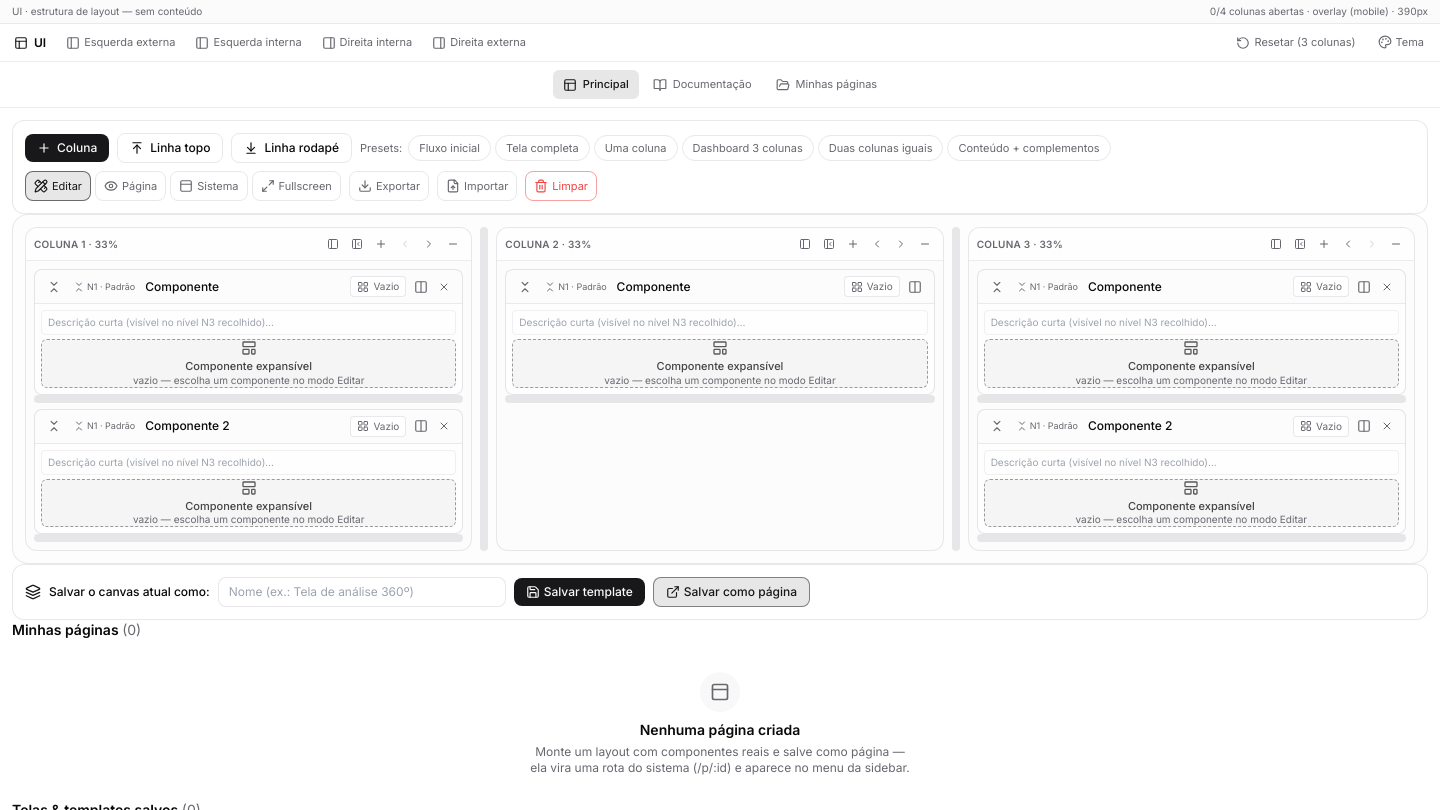
Scenario: UiShell — modo overlay (mobile) › laterais saem do fluxo e abrem como gaveta com Esc/fechar
The image size is (1440, 810).
abre a gaveta da esquerda externa pelo botão da toolbar
Click the button with aria-label "Abrir coluna Esquerda externa" at (121, 43), box [58,30,184,55]
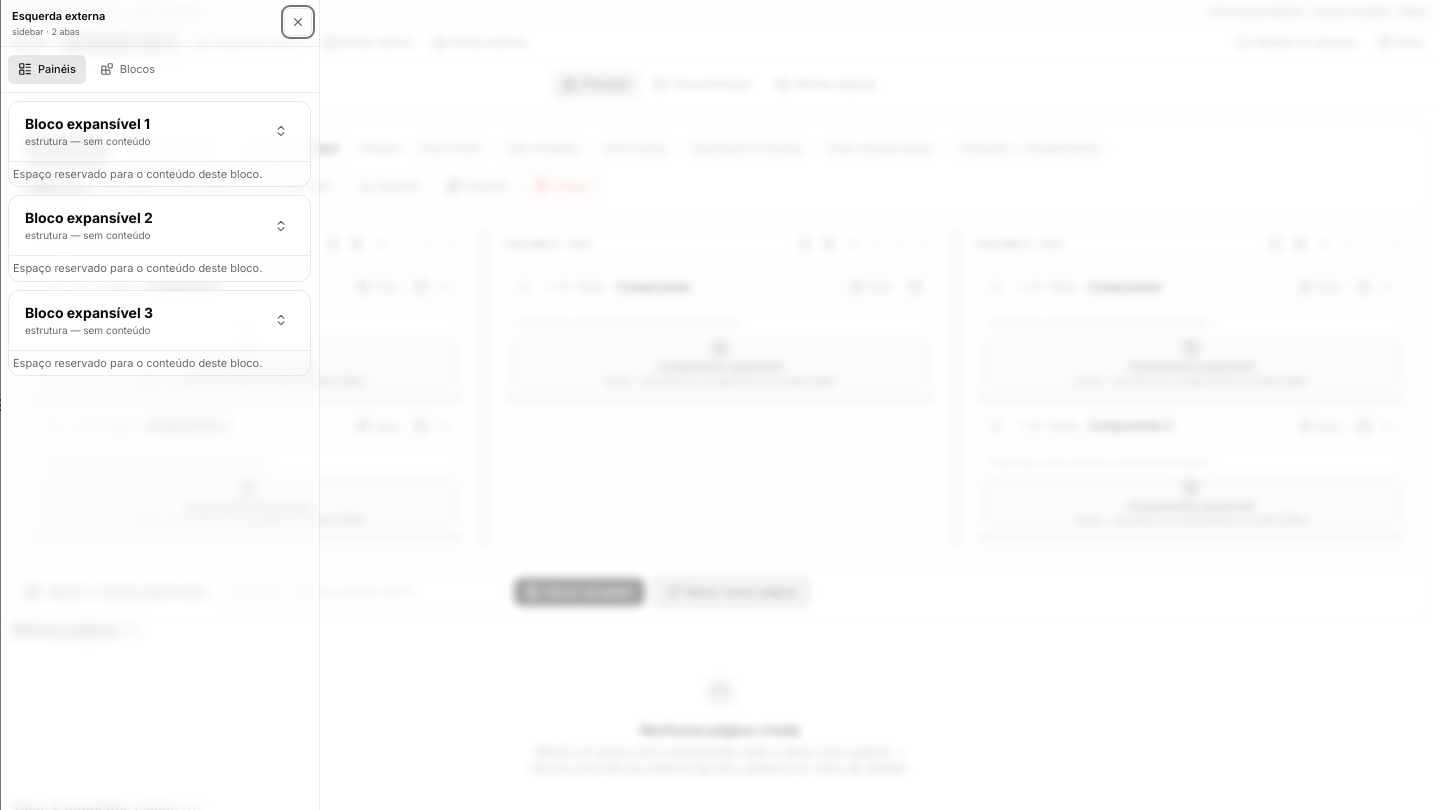
Expected: the dialog named "Coluna Esquerda externa" is shown
Expected: the element named "Abas da coluna Esquerda externa" is shown, [0,47,319,92]
Esc fecha
Press Escape
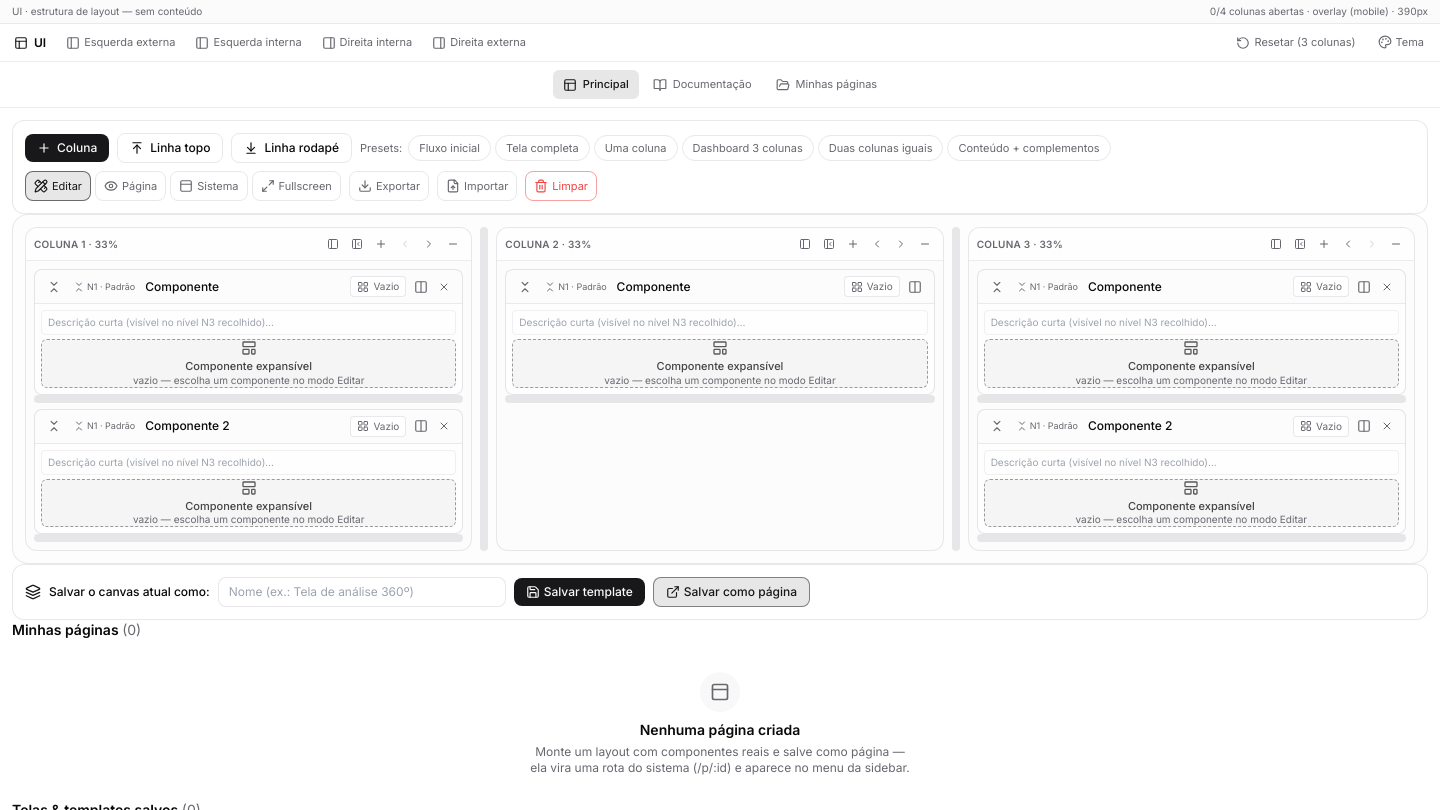
Expected: the dialog is gone
